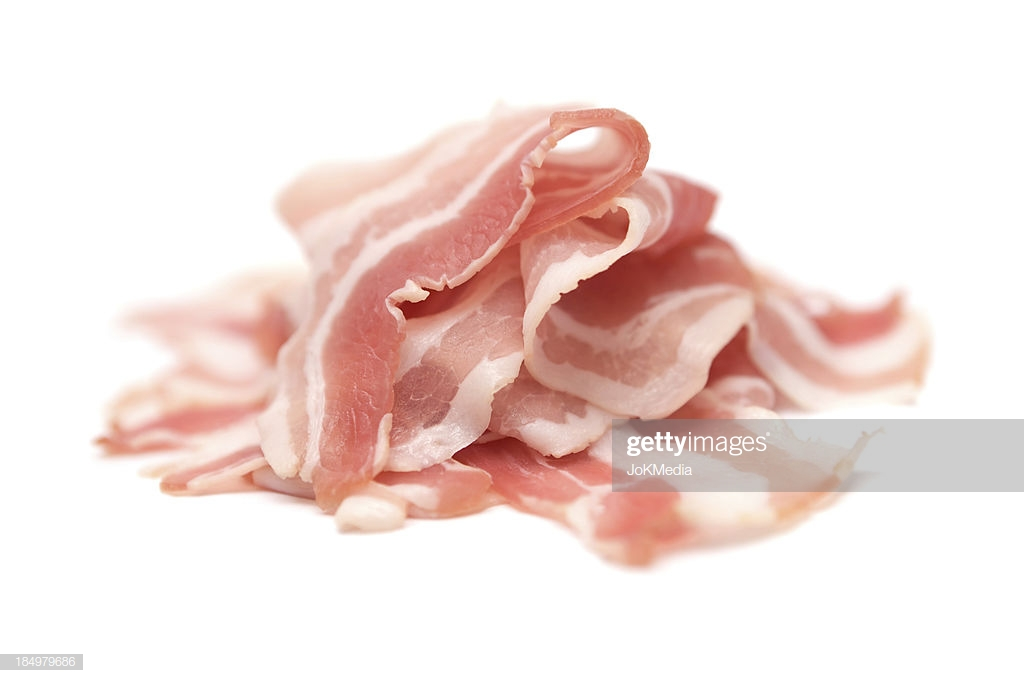bacon: (123, 113, 950, 565)
